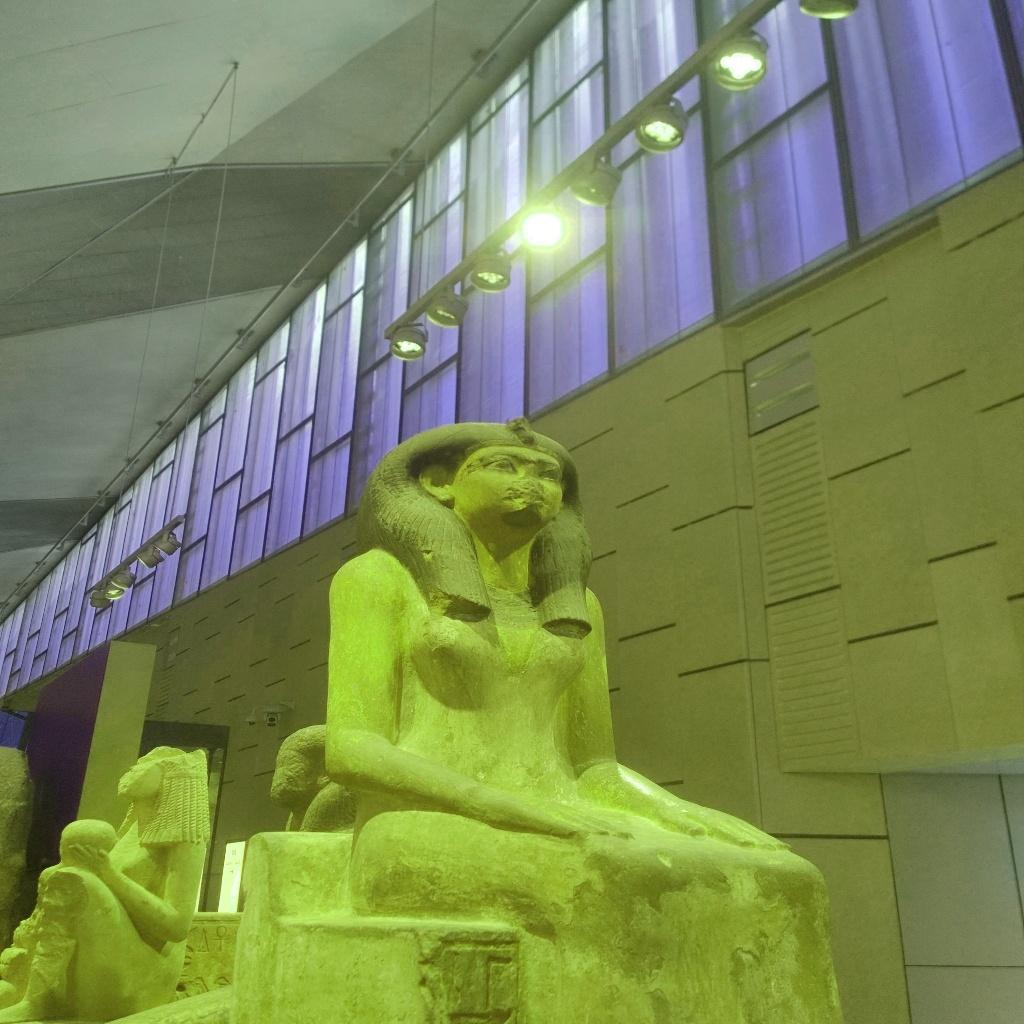Statue of Queen Metnoforet: (271, 412, 844, 1018)
